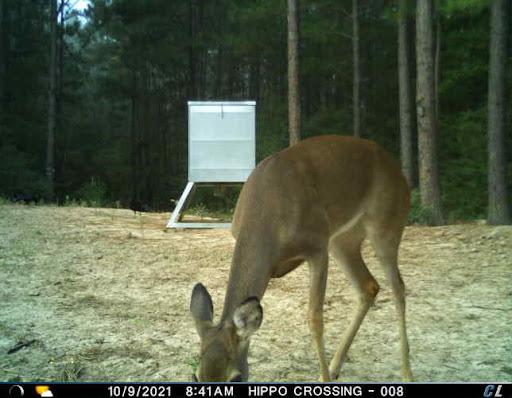Deer: (178, 128, 415, 381)
